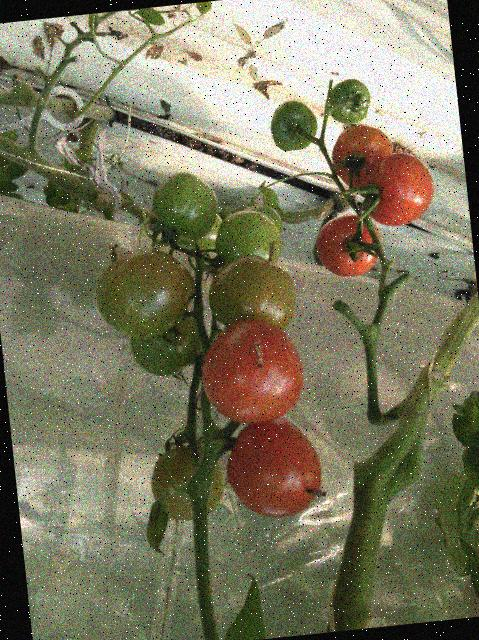l_fully_ripened: (196, 314, 308, 429), (221, 413, 325, 523), (360, 149, 438, 229), (312, 211, 384, 280)
l_green: (89, 242, 199, 344), (148, 169, 221, 244), (126, 314, 205, 380), (211, 208, 284, 272), (267, 98, 319, 153), (325, 77, 373, 127), (174, 215, 225, 256), (241, 203, 283, 240)
l_half_ripened: (204, 250, 299, 341), (146, 441, 227, 525), (328, 122, 397, 197)
